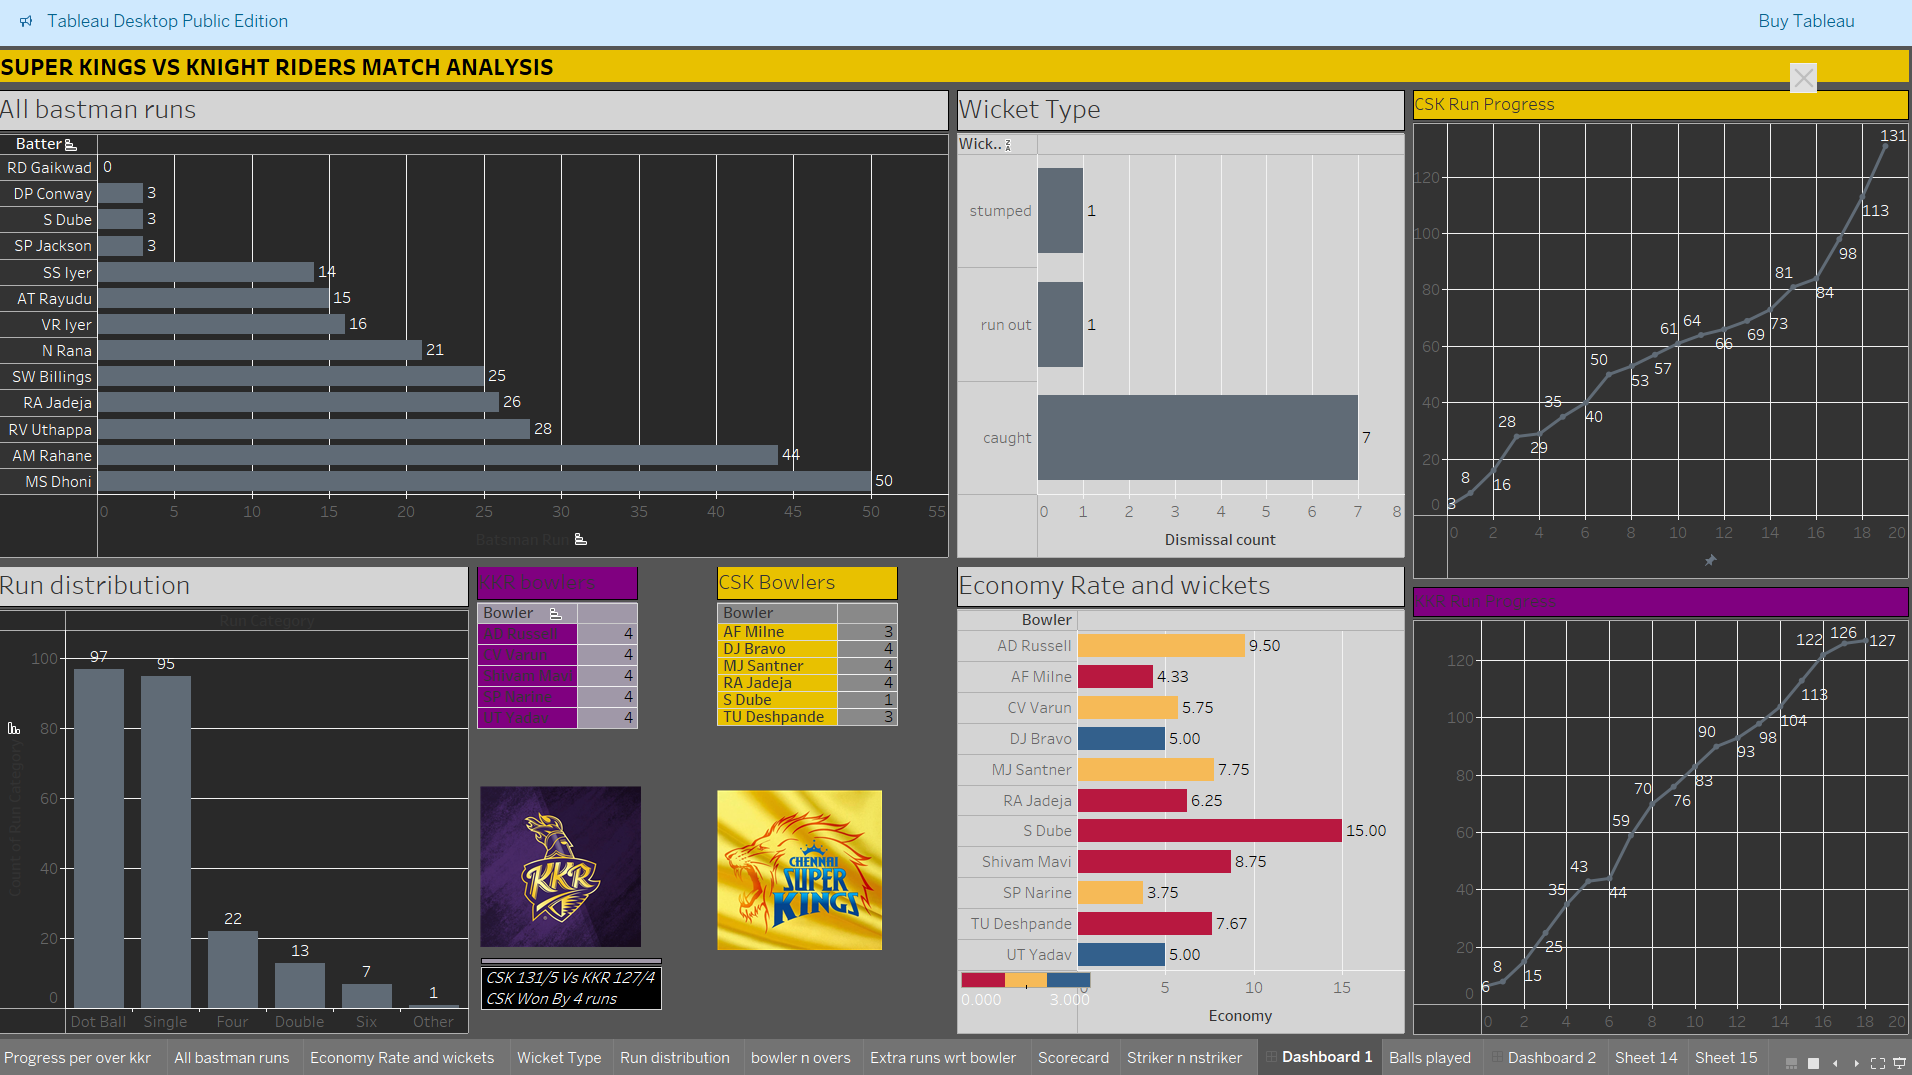

What the dashboard file says about the page in this screenshot:
{"tool":"tableau","page":{"name":"Dashboard 1","canvas":[1000,1000],"units":"permille","ordinal":0},"visuals":[{"type":"title","box":[0,0,1000,49.9]},{"type":"dashboard-object","box":[935.9,17.5,14.4,30]},{"type":"worksheet","title":"All bastman runs","mark":"Automatic","rows":["batter"],"cols":["batsman_run"],"box":[0,49.9,500,475]},{"type":"worksheet","title":"Wicket Type","mark":"Automatic","rows":["kind"],"cols":["Calculation_1711649340890206210"],"box":[500,49.9,237.5,475]},{"type":"worksheet","title":"Run Progress per over csk","mark":"Line","rows":["total_run"],"cols":["overs"],"box":[737.5,49.9,262.5,495.8]},{"type":"worksheet","title":"Run distribution","mark":"Bar","rows":["Calculation_1711649340893560835"],"cols":["Calculation_1711649340893560835"],"box":[0,525,250,475]},{"type":"worksheet","title":"KKR bowlers","mark":"Automatic","rows":["bowler"],"box":[250,525,125,475]},{"type":"worksheet","title":"CSK Bowlers","mark":"Automatic","rows":["bowler"],"box":[375,525,125,475]},{"type":"worksheet","title":"Economy Rate and wickets","mark":"Automatic","rows":["bowler"],"cols":["Calculation_1711649340888072193"],"box":[500,525,237.5,475]},{"type":"worksheet","title":"Run Progress per over kkr","mark":"Line","rows":["total_run"],"cols":["overs"],"box":[737.5,545.7,262.5,454.3]},{"type":"image","param":"Image/c8e9e65d1d2f9d2472dd64a875c5c238.jpg","box":[253.5,745.3,125.5,162.3]},{"type":"image","param":"Image/86b2be31f00318e9934b109fd02ad088.jpg","box":[377.2,749.1,96.6,161.1]},{"type":"worksheet","title":"Scorecard","mark":"Automatic","box":[254.1,918.9,220.3,82.4]},{"type":"legend","title":"Economy Rate and wickets","param":"[federated.0r9t0uh0xn6lzi15q294002xgn3w].[sum:isWicketDelivery:qk]","box":[502.1,928.8,71.8,53.7]}]}

Visuals, with their boxes on the dashboard's canvas, which has no fixed pixel size, in thousandths of its width and height (x1, y1, x2, y2). These are canvas units, not pixel positions in the 1912x1075 screenshot, which may show the page scaled, cropped or inside an application window:
title: (left=0, top=0, right=1000, bottom=50)
dashboard-object: (left=936, top=18, right=950, bottom=48)
"All bastman runs" worksheet: (left=0, top=50, right=500, bottom=525)
"Wicket Type" worksheet: (left=500, top=50, right=738, bottom=525)
"Run Progress per over csk" worksheet (Line marks): (left=738, top=50, right=1000, bottom=546)
"Run distribution" worksheet (Bar marks): (left=0, top=525, right=250, bottom=1000)
"KKR bowlers" worksheet: (left=250, top=525, right=375, bottom=1000)
"CSK Bowlers" worksheet: (left=375, top=525, right=500, bottom=1000)
"Economy Rate and wickets" worksheet: (left=500, top=525, right=738, bottom=1000)
"Run Progress per over kkr" worksheet (Line marks): (left=738, top=546, right=1000, bottom=1000)
image: (left=254, top=745, right=379, bottom=908)
image: (left=377, top=749, right=474, bottom=910)
"Scorecard" worksheet: (left=254, top=919, right=474, bottom=1001)
"Economy Rate and wickets" legend: (left=502, top=929, right=574, bottom=982)
